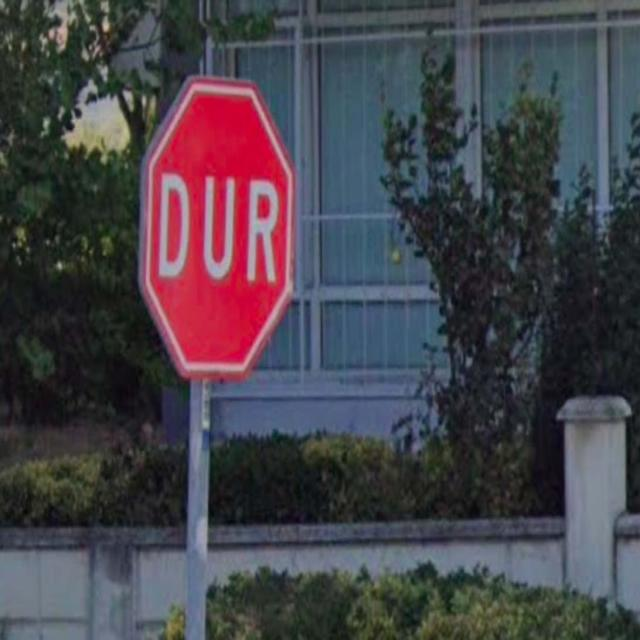dur: (138, 74, 294, 376)
